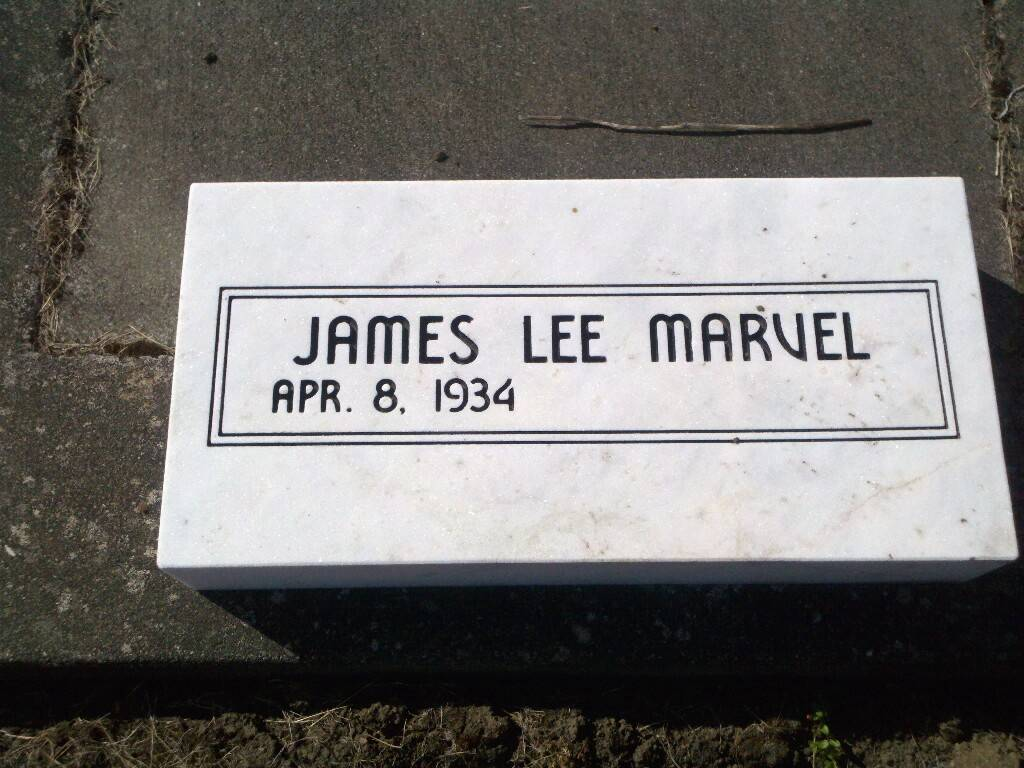flat: (153, 166, 1015, 583)
